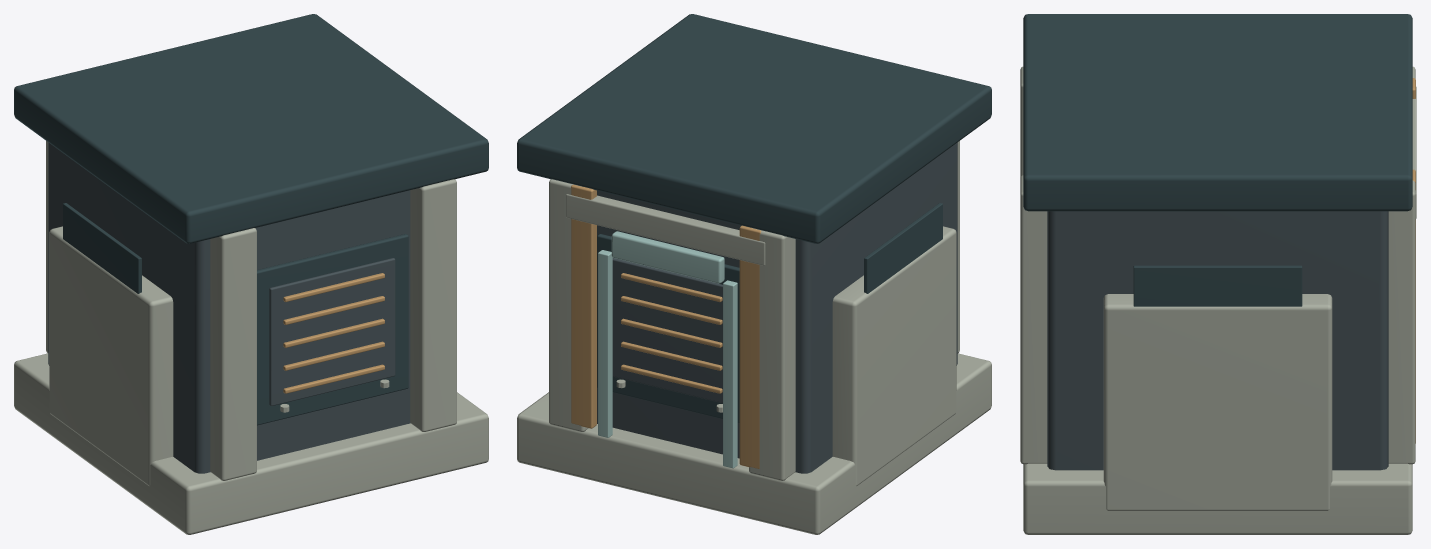
File: gate-0.glb
3 renders of one model, left to right at view 1: azimuth 30°, elevation 25°; view 2: azimuth 150°, elevation 25°; view 3: azimuth 270°, elevation 25°, orthographic. The views are drawn at different scales.
Parts seen in each view (by area): view 1: gate_2, gate_1, gate_0, gate_3; view 2: gate_2, gate_1, gate_0, gate_3, gate_4; view 3: gate_2, gate_1, gate_0.
Boxes of the visible parts, x1=… form: gate_2: x1=14, y1=14, x2=488, y2=425; gate_1: x1=14, y1=141, x2=488, y2=534; gate_0: x1=48, y1=142, x2=410, y2=473; gate_3: x1=283, y1=273, x2=384, y2=393; gate_2: x1=517, y1=14, x2=991, y2=422; gate_1: x1=517, y1=141, x2=991, y2=534; gate_0: x1=597, y1=142, x2=957, y2=473; gate_3: x1=571, y1=184, x2=761, y2=468; gate_4: x1=598, y1=231, x2=737, y2=468; gate_2: x1=1023, y1=14, x2=1412, y2=306; gate_1: x1=1020, y1=66, x2=1416, y2=534; gate_0: x1=1047, y1=211, x2=1388, y2=470.
Bounding box in the file's own units: 0.975 × 0.99 × 0.9875.
